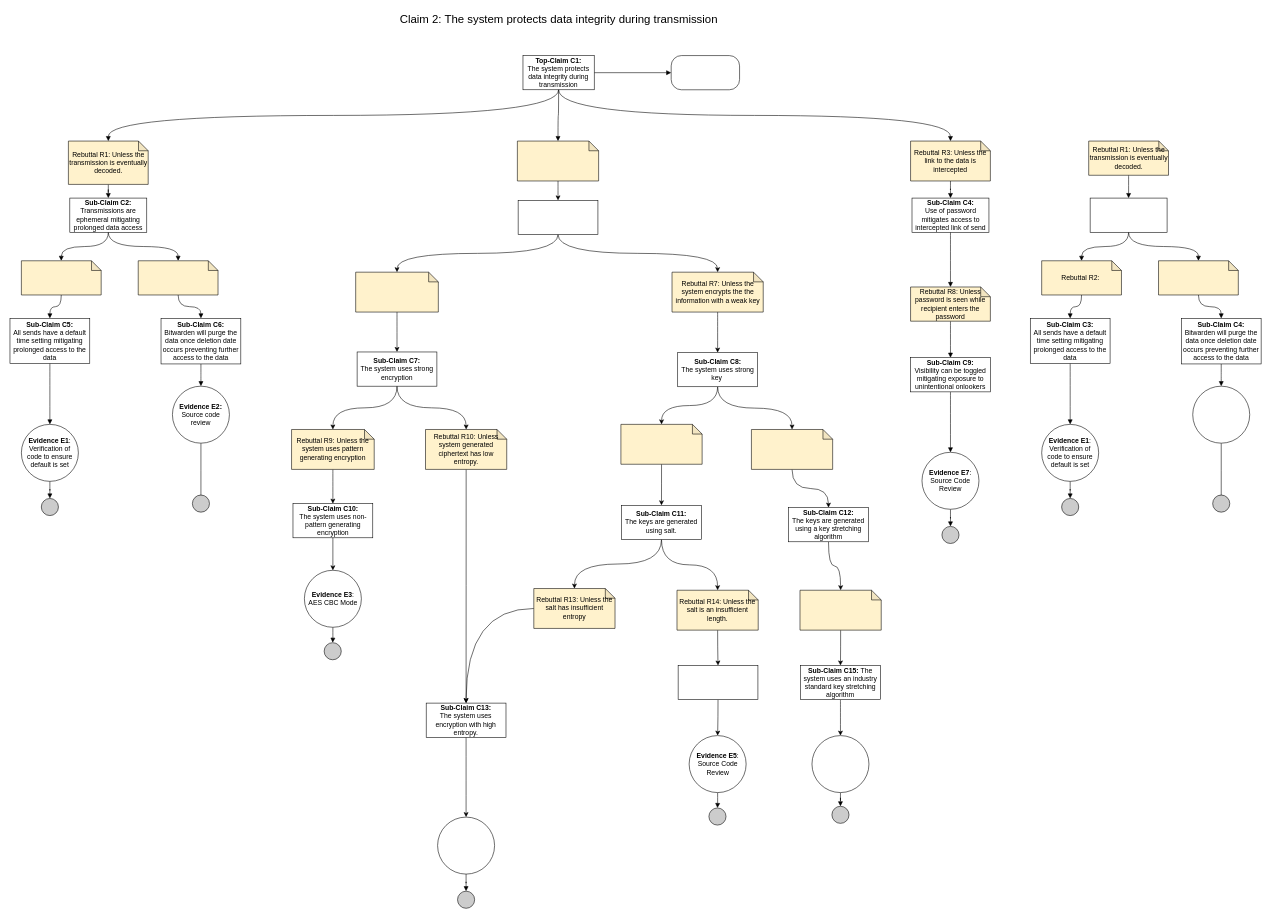
Image size: 1271x918. Some labels were removed from this diagram. Here are the shapes that lost their labels. From the top down, the centre of each, then its label:
At point 705,72: "Context: CT1 During password syncronization".
At point 558,161: "Rebuttal R2: Unless the system transmits the information in the clear".
At point 558,217: "Sub-Claim C3: The system uses encryption to protect data in transit.".
At point 1128,215: "Sub-Claim C2: Something about their Command Line Interface".
At point 61,277: "Rebuttal R4: Unless the user forgets to set a lifespan".
At point 178,277: "Rebuttal R5: Unless the send is not purged from the database".
At point 396,292: "Rebuttal R6: Unless the system uses weak encryption".
At point 1198,277: "Rebuttal R1: Unless the send is not purged from the database".
At point 1221,414: "Evidence E3: Source code review".
At point 661,444: "Rebuttal R11: Unless the key is not salted".
At point 792,449: "Rebuttal R12: Unless the key generation algorithm is computationally cheap".
At point 840,610: "Rebuttal R15: Unless the key stretching algorithm is weak.".
At point 718,682: "Sub-Claim C14: The salt length is greater than 32 bytes".
At point 840,764: "Evidence E6 : RFC 8018 Key Stretching Algorithm".
At point 466,845: "Evidence E4 : Hardware Randomness Library".
